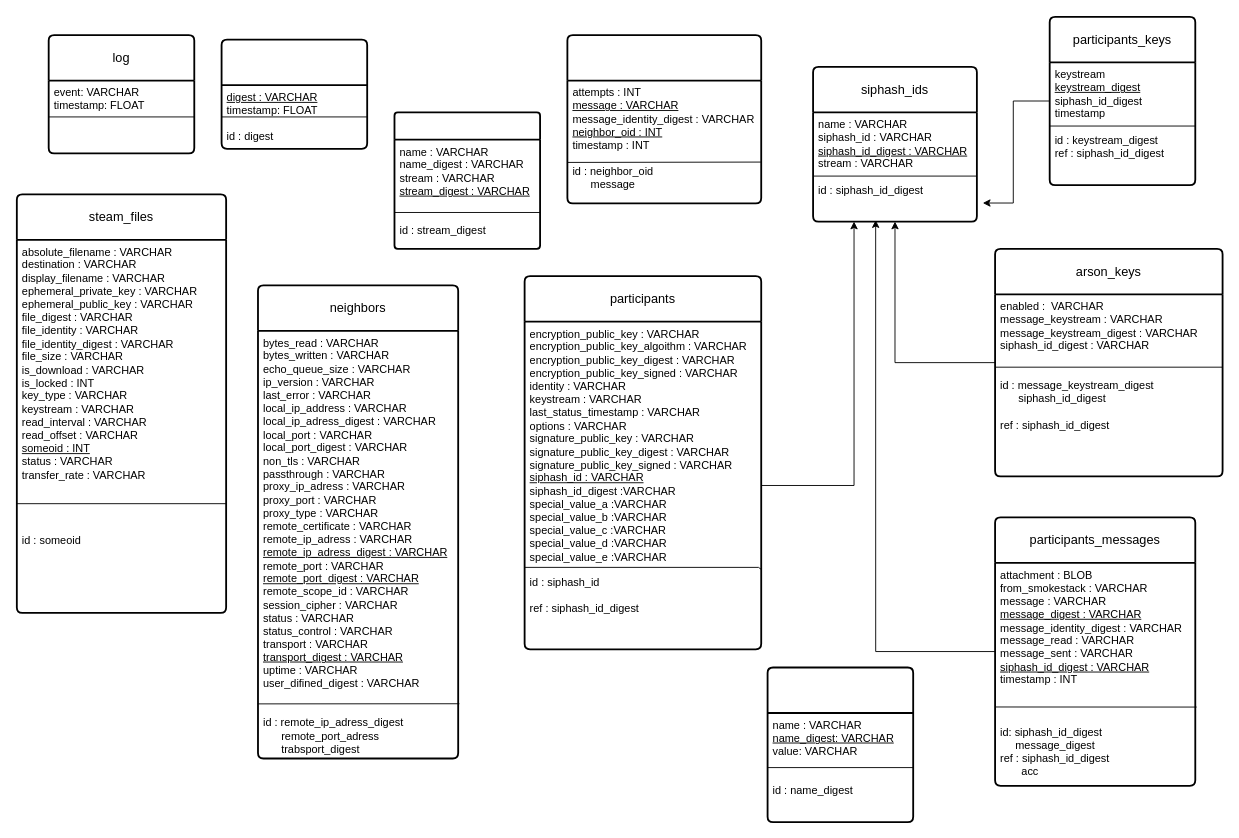
Some shapes in this 1239 by 838 pixel diagram are drawn without their labels. Each missing label, with the box of its shape:
congestion_control: (220, 38, 368, 149)
fire: (393, 111, 541, 249)
outbound_queue: (566, 34, 762, 204)
settings: (766, 666, 914, 823)
